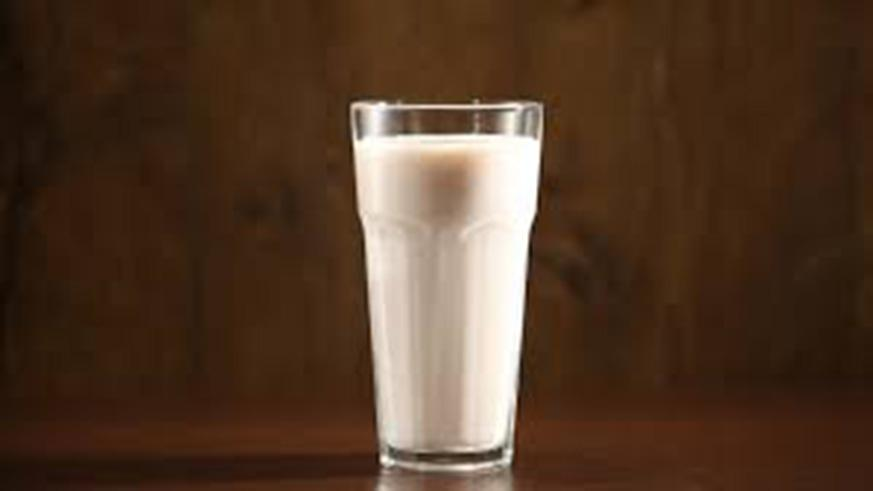glass of milk: (339, 96, 555, 478)
